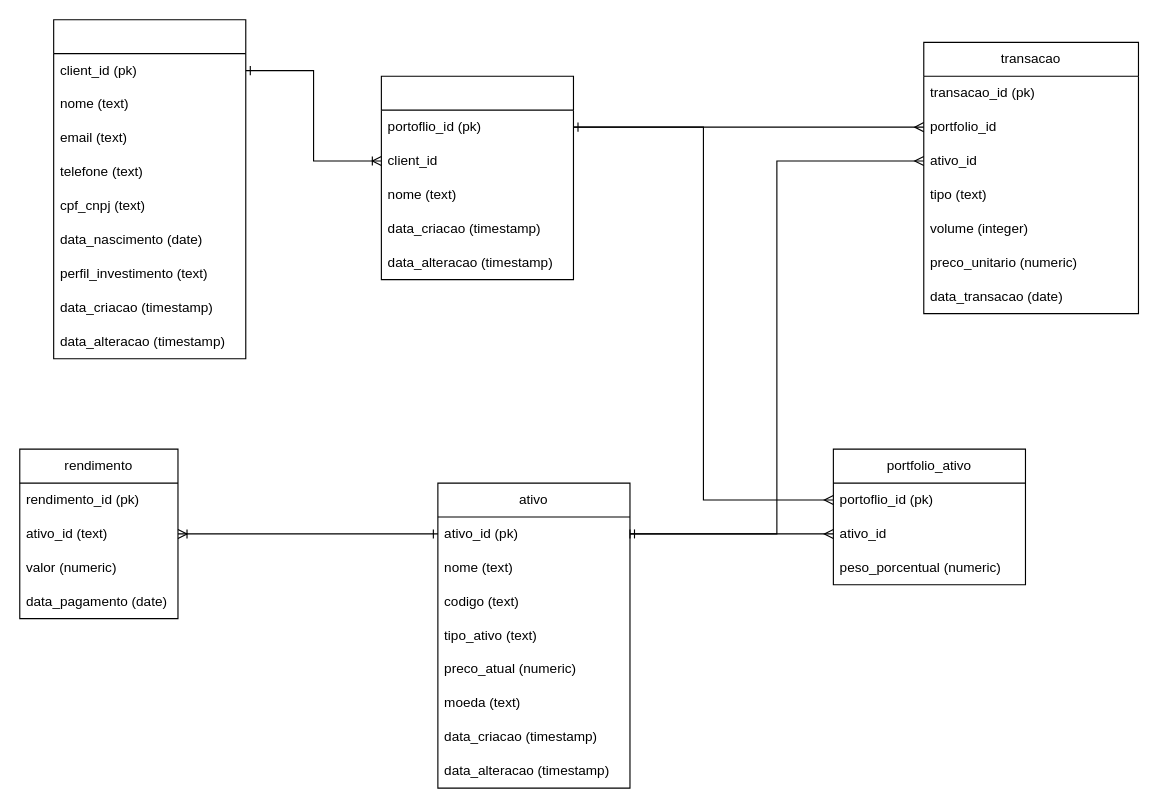
This 1158x808 diagram has some shape labels left out. Here are the shapes that lost their labels. From the top down, the box of each, then its label:
(53, 19, 246, 359): cliente
(380, 75, 573, 280): portfolio
